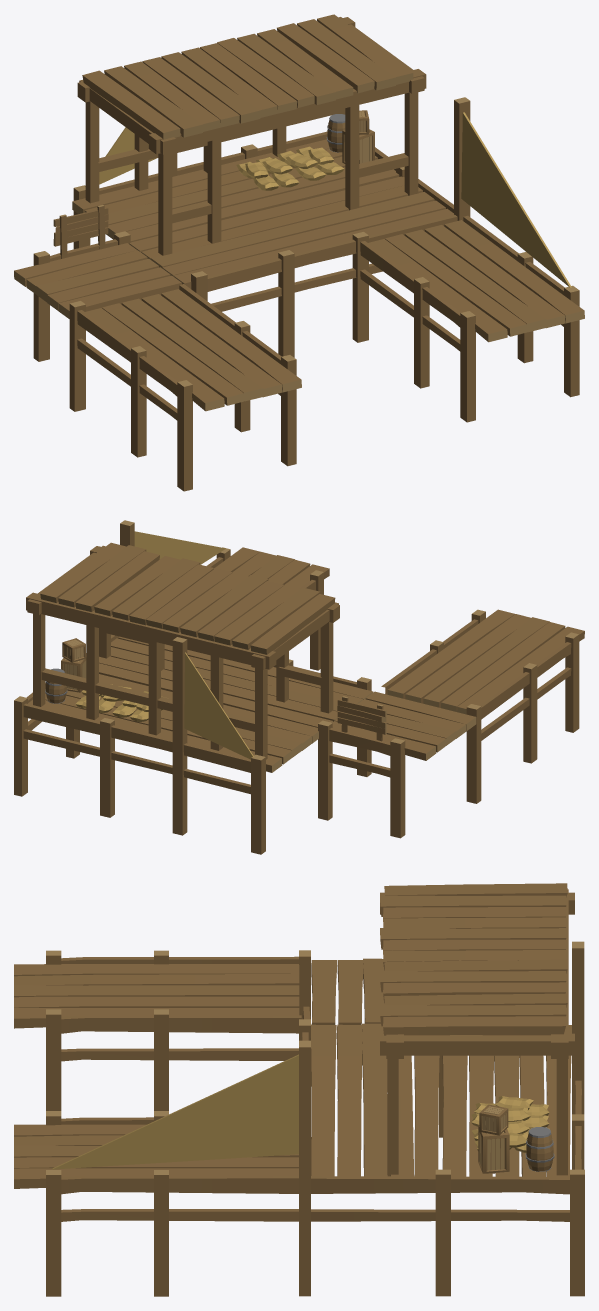
The model's file is quaternius-real-time-strategy-port-first-age-level-3.glb.
3 renders of one model, top to bottom at view 1: azimuth 30°, elevation 25°; view 2: azimuth 150°, elevation 25°; view 3: azimuth 270°, elevation 25°, orthographic. The views are drawn at different scales.
Visible parts, largest first — view 1: Port_FirstAge_Level3; view 2: Port_FirstAge_Level3; view 3: Port_FirstAge_Level3.
Boxes of the visible parts, x1,y1,x2,y2 form: Port_FirstAge_Level3: [14, 14, 584, 491]; Port_FirstAge_Level3: [14, 520, 584, 854]; Port_FirstAge_Level3: [14, 883, 584, 1296].
Bounding box in the file's own units: 1.84 × 0.9906 × 1.98.
